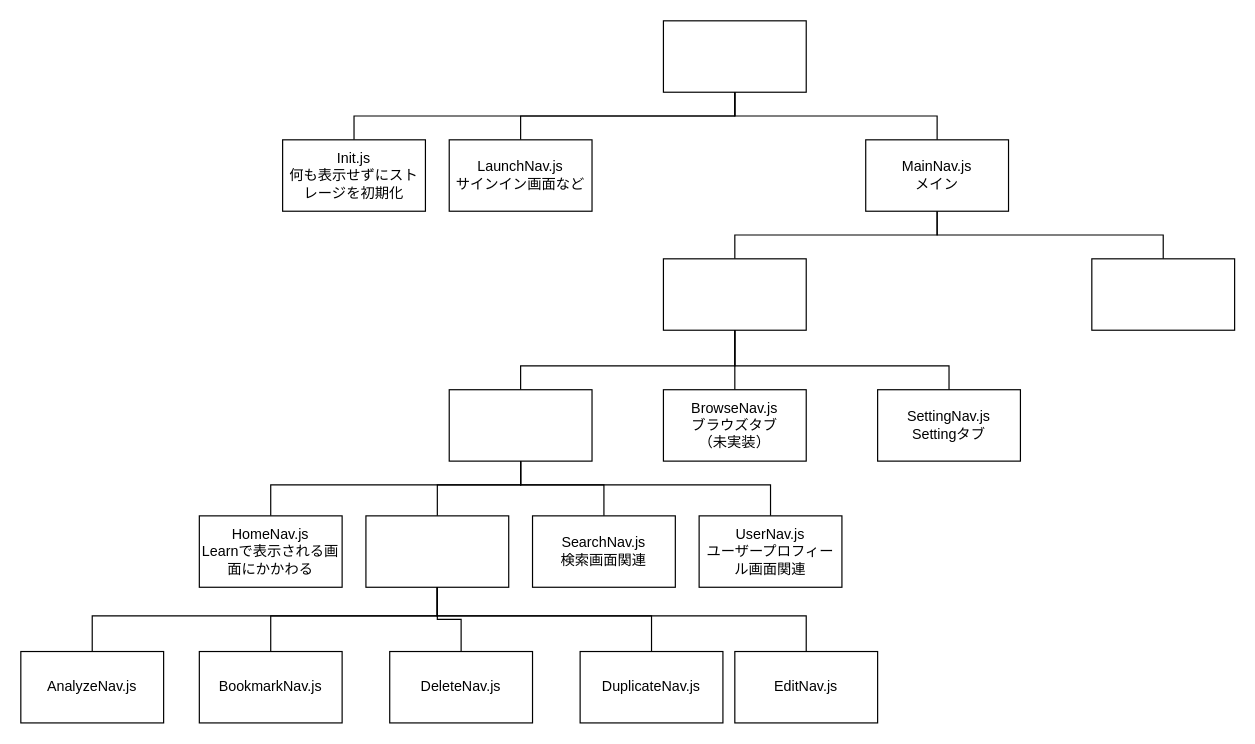
Image size: 1255x744. Some labels were removed from this diagram. The box of each missing label's shape, as (x1, y1, x2, y2) in pixels:
BottomNav.js 下にあるバーのやつ: (662, 258, 806, 330)
DeckNav.js デッキを押したときのメニュー画面を中心に: (365, 515, 509, 587)
DrawerNav.js ドロワー関連: (1091, 258, 1235, 330)
LearnNav.js Learnタブ: (448, 389, 592, 461)
Nav.js: (662, 20, 806, 92)
